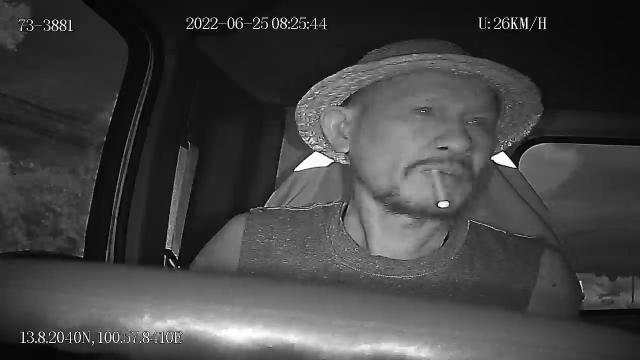Smoking: (424, 166, 450, 210)
